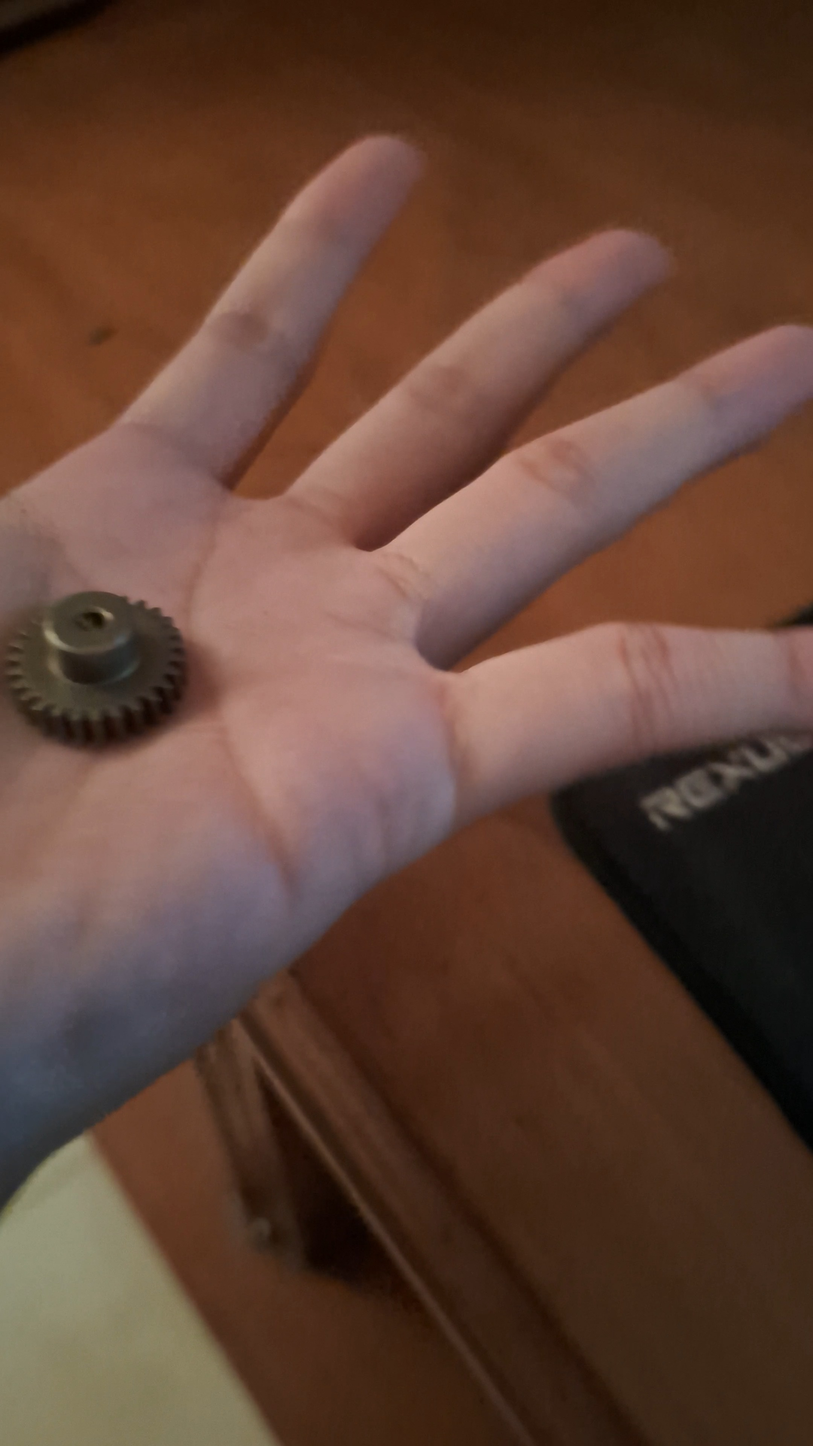spur gear: (6, 591, 186, 744)
